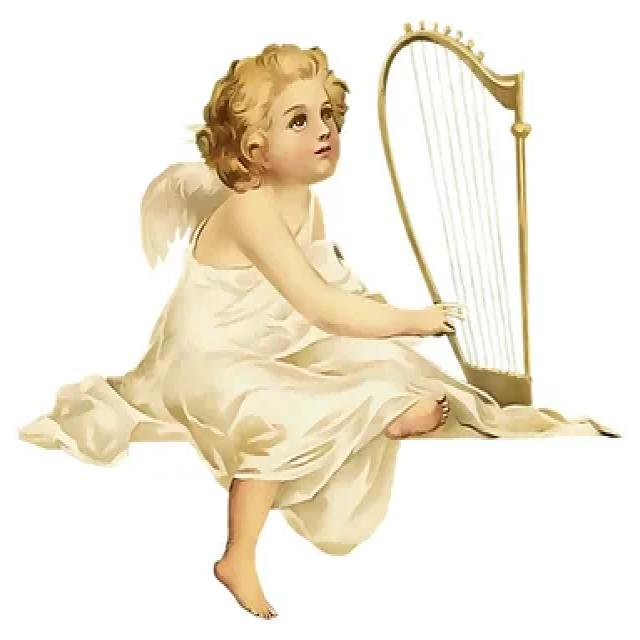angel: (23, 5, 635, 638)
